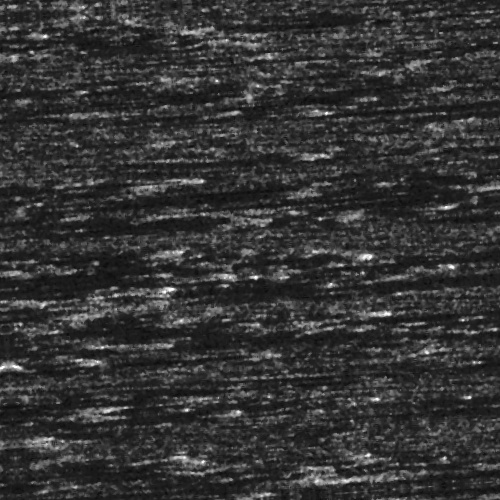object: (218, 475, 375, 488), (0, 274, 104, 291), (98, 330, 181, 337), (450, 198, 500, 209), (0, 491, 56, 500)
shadow: (0, 475, 296, 488), (257, 198, 491, 209), (414, 265, 500, 280), (433, 284, 500, 303), (135, 193, 296, 198), (416, 115, 500, 124), (56, 330, 139, 337), (0, 274, 20, 291)
